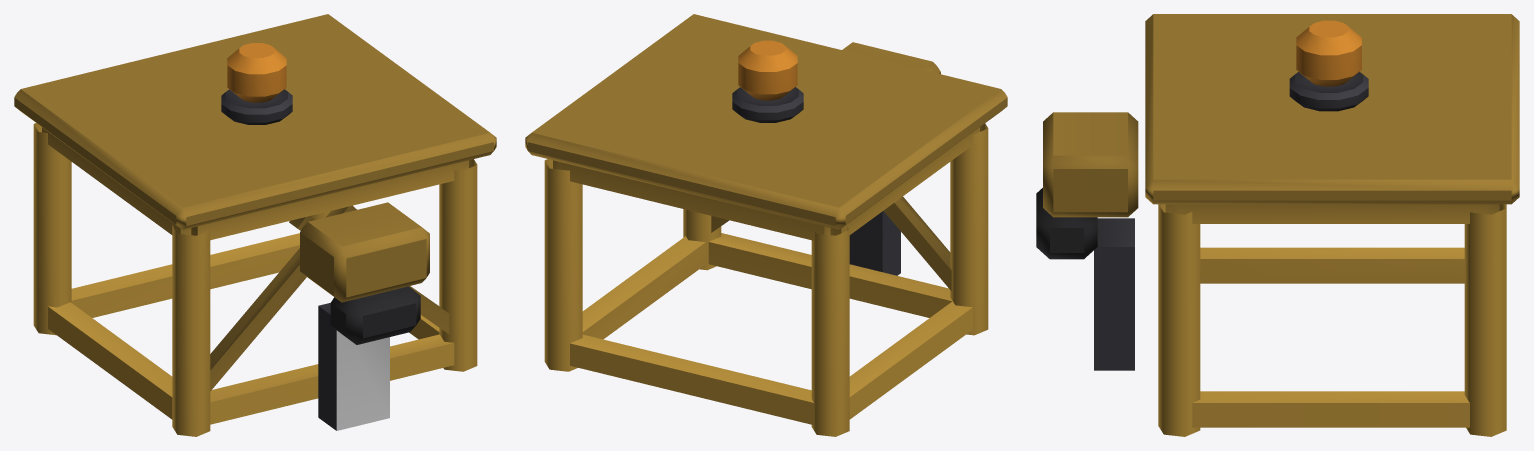
Rendered from HoistMastCap.fbx.
The picture shows the model from 3 angles, left to right: view 1: azimuth 30°, elevation 25°; view 2: azimuth 150°, elevation 25°; view 3: azimuth 270°, elevation 25°; orthographic projection. The views are drawn at different scales.
Parts seen in each view (by area): view 1: HoistMastCap; view 2: HoistMastCap; view 3: HoistMastCap.
Boxes of the visible parts, x1=… form: HoistMastCap: x1=14, y1=14, x2=496, y2=436; HoistMastCap: x1=525, y1=14, x2=1007, y2=436; HoistMastCap: x1=1036, y1=14, x2=1519, y2=436.
Size of the model in its own units: 0.6 by 0.53 by 0.71.
